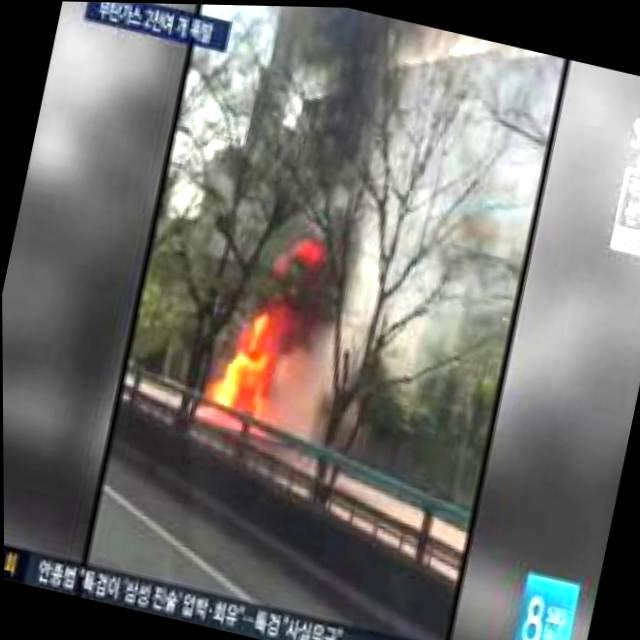fire: (195, 286, 298, 422)
